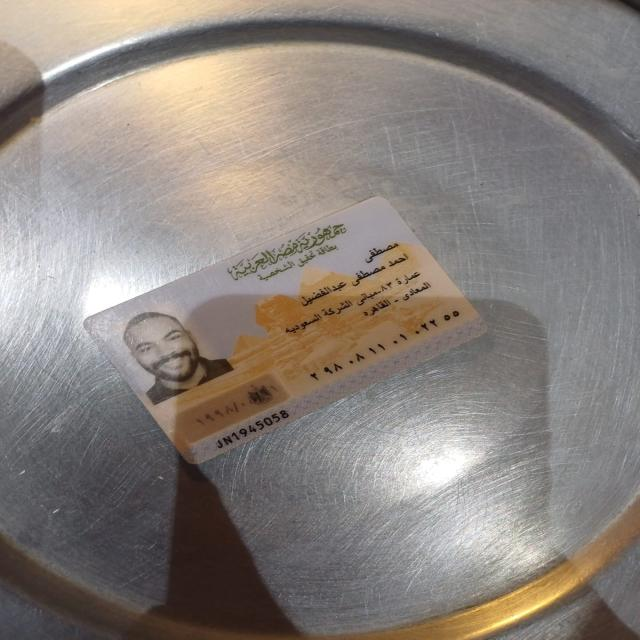ID-cards: (73, 188, 502, 474)
